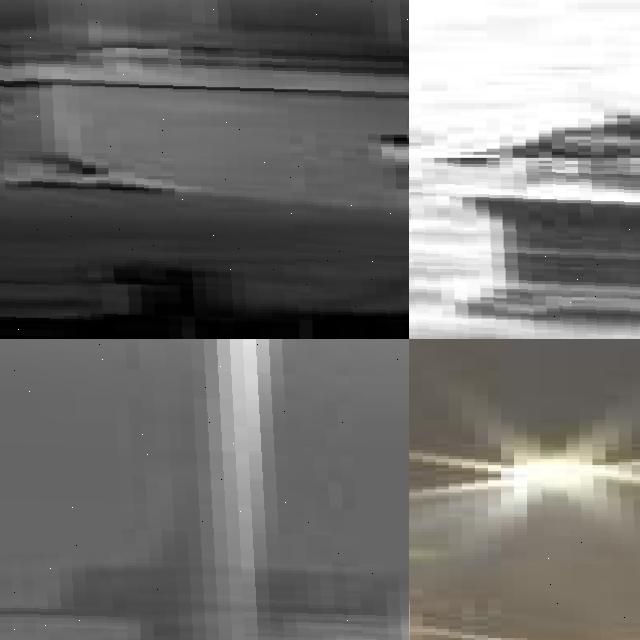street light: (0, 0, 409, 339), (0, 339, 409, 640), (409, 158, 640, 339), (527, 465, 640, 640)
